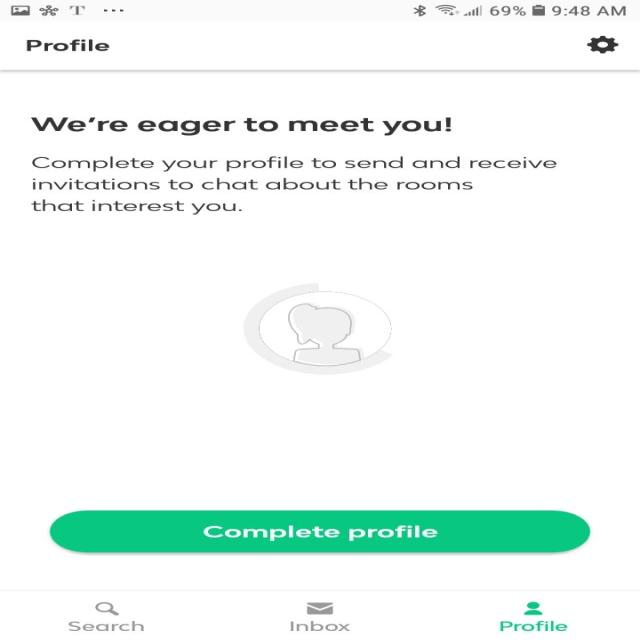Icon: (586, 35, 618, 54), (94, 602, 119, 616), (306, 602, 334, 614), (522, 601, 542, 615)
Image: (242, 282, 394, 375)
Text: (31, 156, 556, 214), (29, 117, 452, 136), (26, 39, 110, 52), (68, 620, 145, 631), (500, 620, 568, 631), (290, 620, 350, 631)
TextButton: (49, 509, 591, 553)
